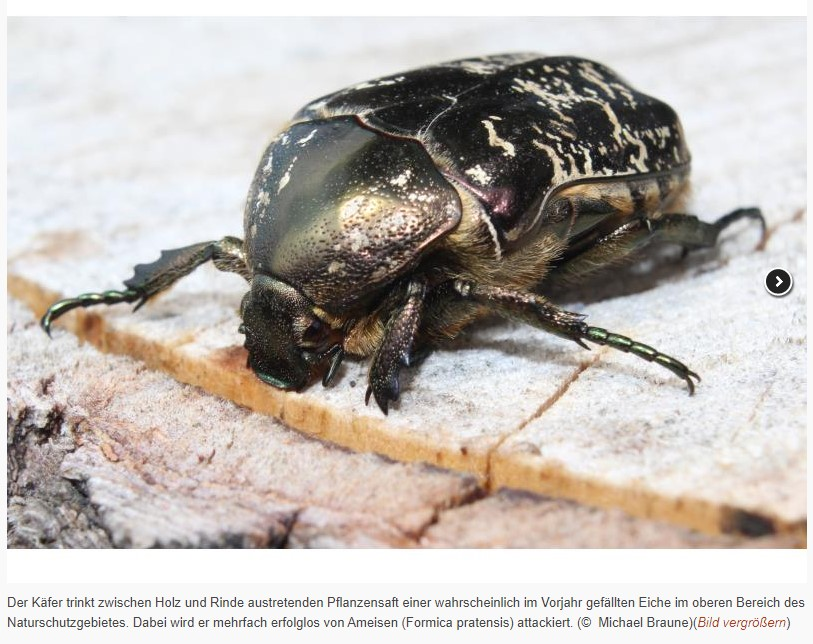Protaetia_lugubris: (27, 42, 772, 447)
